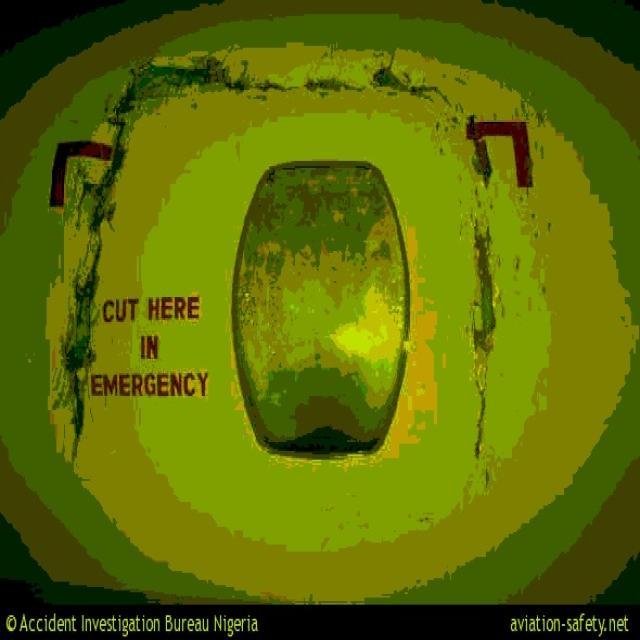crack: (57, 128, 135, 466), (114, 59, 460, 123), (468, 187, 504, 486)
